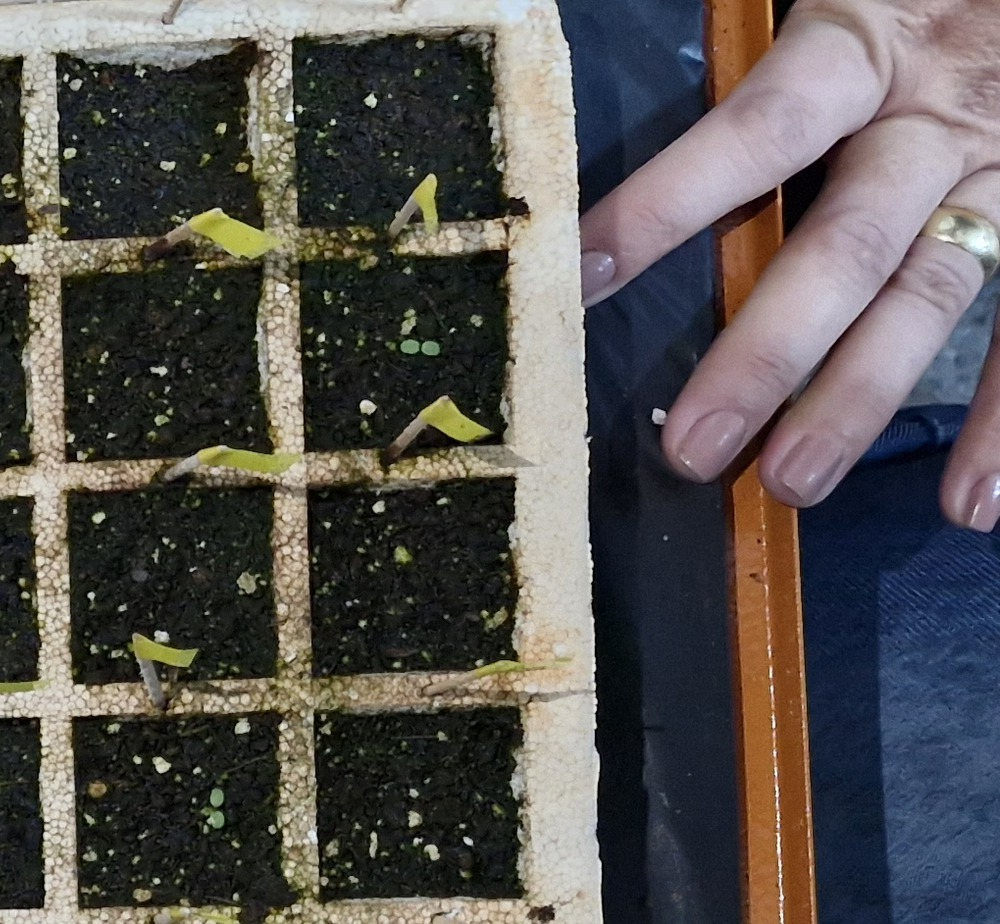Folha: (401, 340, 420, 354), (421, 342, 439, 355)
Germinacao: (401, 340, 440, 355)
